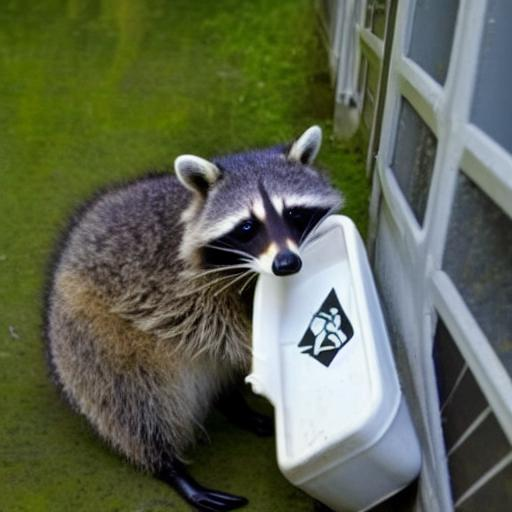raccoon: (30, 118, 354, 471)
